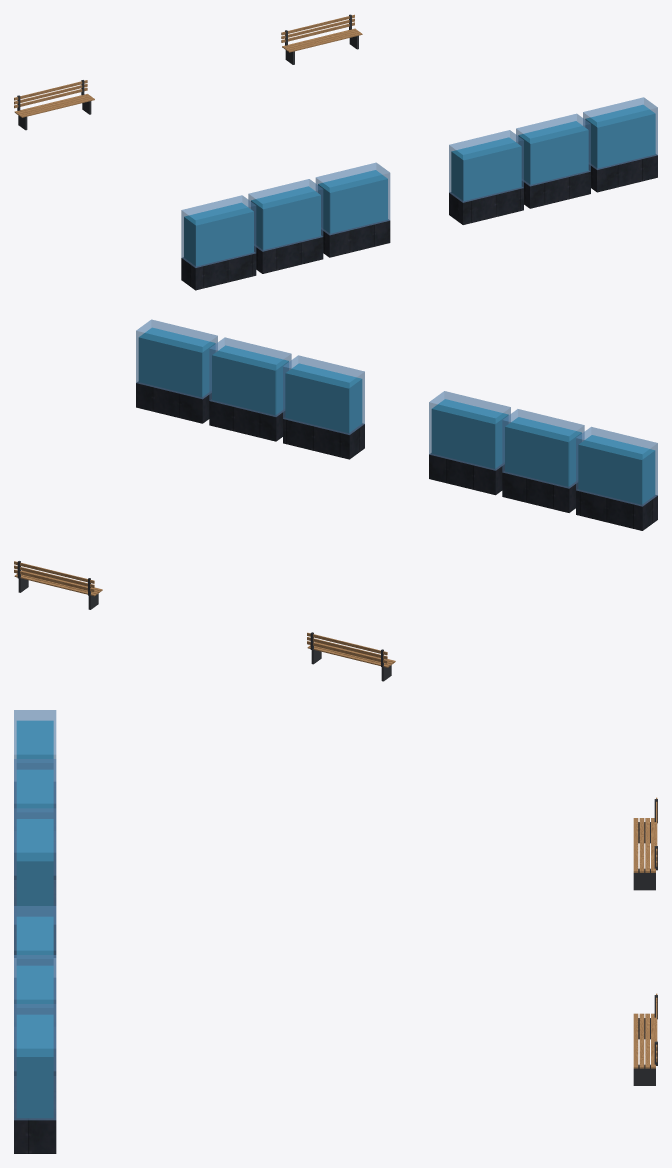
Rendered from i_harbor_aquarium.gltf.
3 views of the same model, one above another, from view 1: azimuth 30°, elevation 25°; view 2: azimuth 150°, elevation 25°; view 3: azimuth 270°, elevation 25° (orthographic). The views are drawn at different scales.
Parts seen in each view (by area): view 1: I_harbor_aquarium; view 2: I_harbor_aquarium; view 3: I_harbor_aquarium.
Boxes of the visible parts, box(x1,y1,x2,y2) form: I_harbor_aquarium: box(14, 14, 657, 290); I_harbor_aquarium: box(14, 319, 657, 681); I_harbor_aquarium: box(14, 710, 657, 1153).
Bounding box in the file's own units: 15.18 × 2.2 × 12.2.
8 materials, 2 textured.
